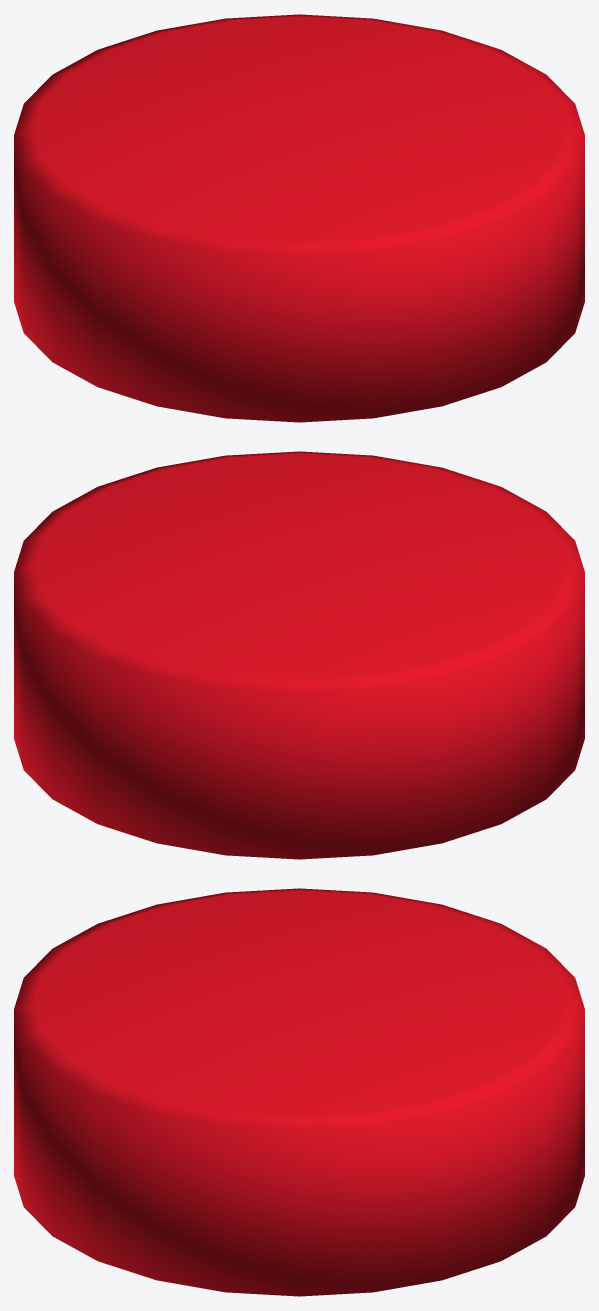
File: FormaFormaggioStagionato.fbx
The picture shows the model from 3 angles, top to bottom: view 1: azimuth 30°, elevation 25°; view 2: azimuth 150°, elevation 25°; view 3: azimuth 270°, elevation 25°; orthographic projection.
Visible parts, largest first — view 1: FormaInteraFormaggio.001; view 2: FormaInteraFormaggio.001; view 3: FormaInteraFormaggio.001.
Part boxes in pixels (x1=…): FormaInteraFormaggio.001: x1=14, y1=14, x2=584, y2=422; FormaInteraFormaggio.001: x1=14, y1=451, x2=584, y2=859; FormaInteraFormaggio.001: x1=14, y1=888, x2=584, y2=1296.
Bounding box in the file's own units: 779 × 267 × 779.
